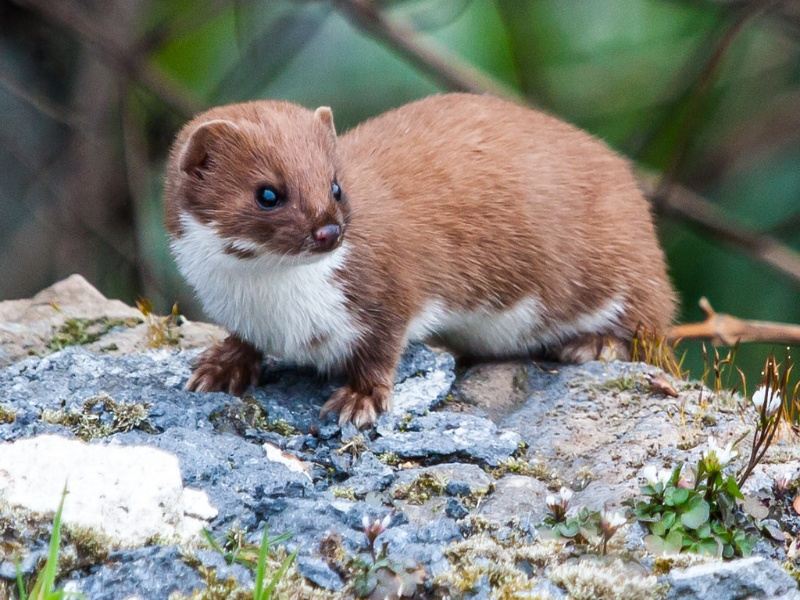minkish: (160, 90, 685, 428)
